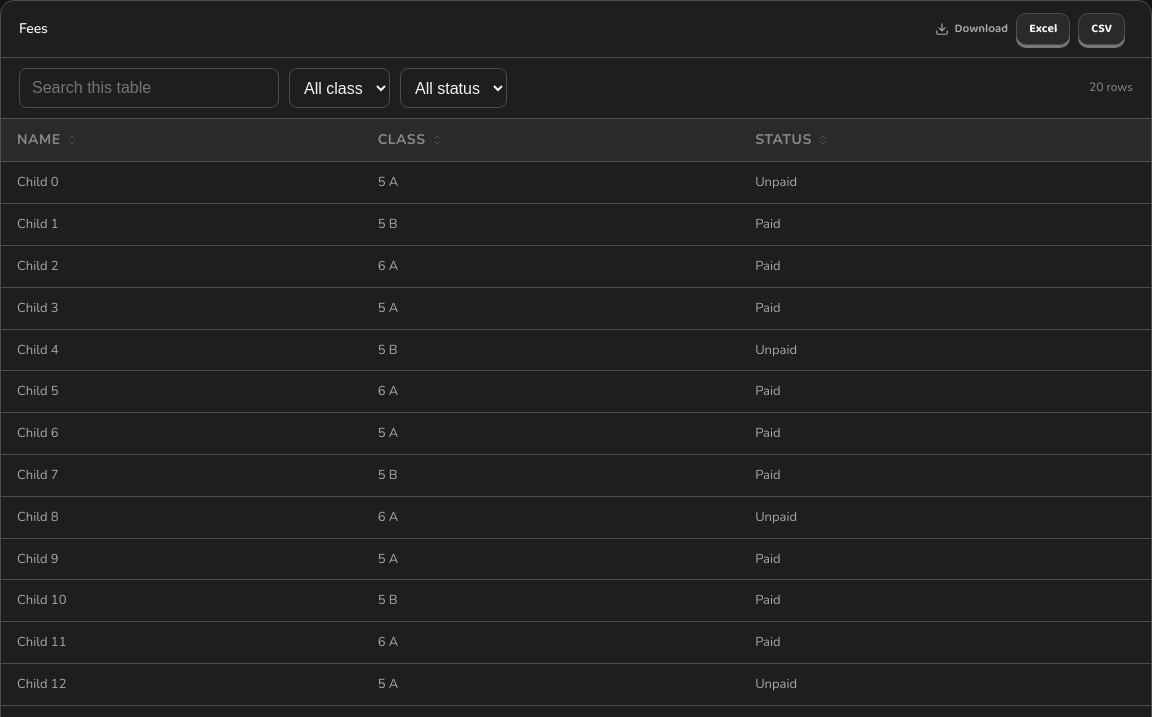
a filter matching nothing says so, rather than "no data found"
Type "nobody at all" into the search field with test id "t-search" at {"x": 149, "y": 88}, box x1=19 y1=68 x2=279 y2=108
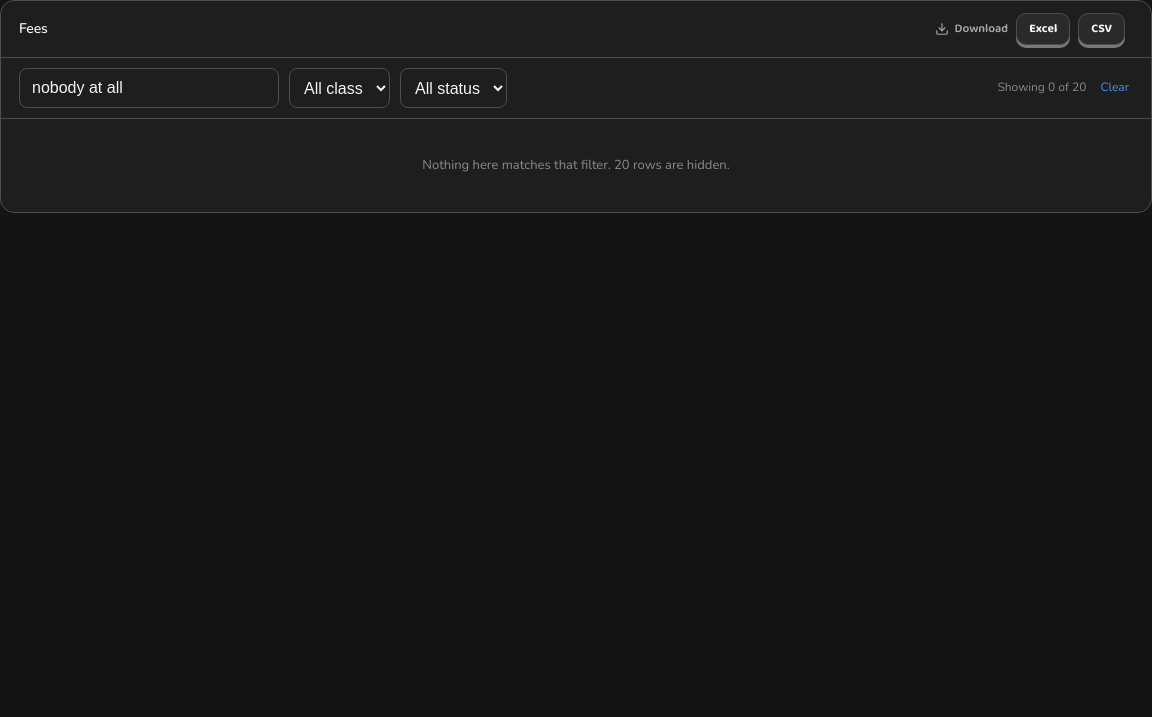
Expected: the text with test id "t-no-match" shows "20 rows are hidden", x1=422 y1=156 x2=730 y2=174
